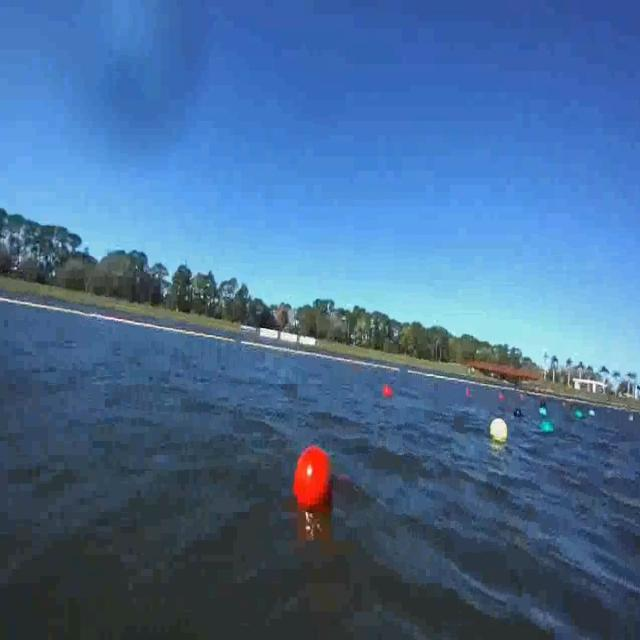black-buoy: (514, 408, 521, 419)
green-buoy: (540, 422, 553, 434), (573, 411, 583, 421)
red-buoy: (294, 446, 335, 512), (382, 385, 393, 399)
red-column-buoy: (466, 387, 470, 398)
yellow-buoy: (490, 418, 507, 442)
